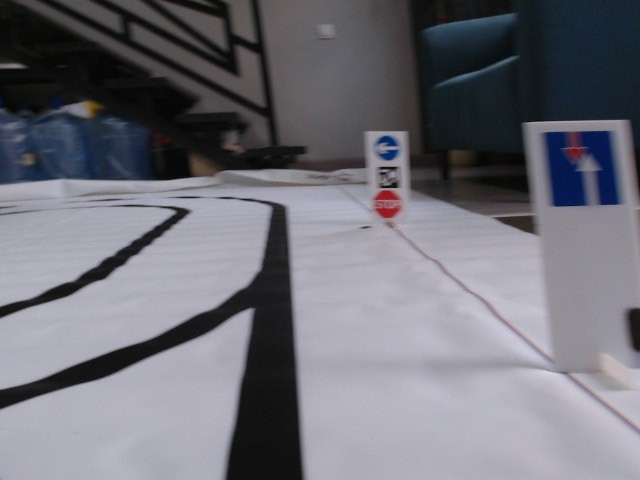Stop: (374, 191, 402, 219)
priority_movement: (542, 131, 625, 207)
